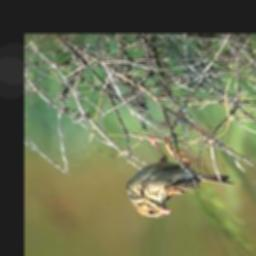Sparrow: (117, 128, 237, 219)
